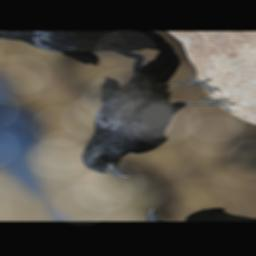Crow: (30, 41, 256, 189)
